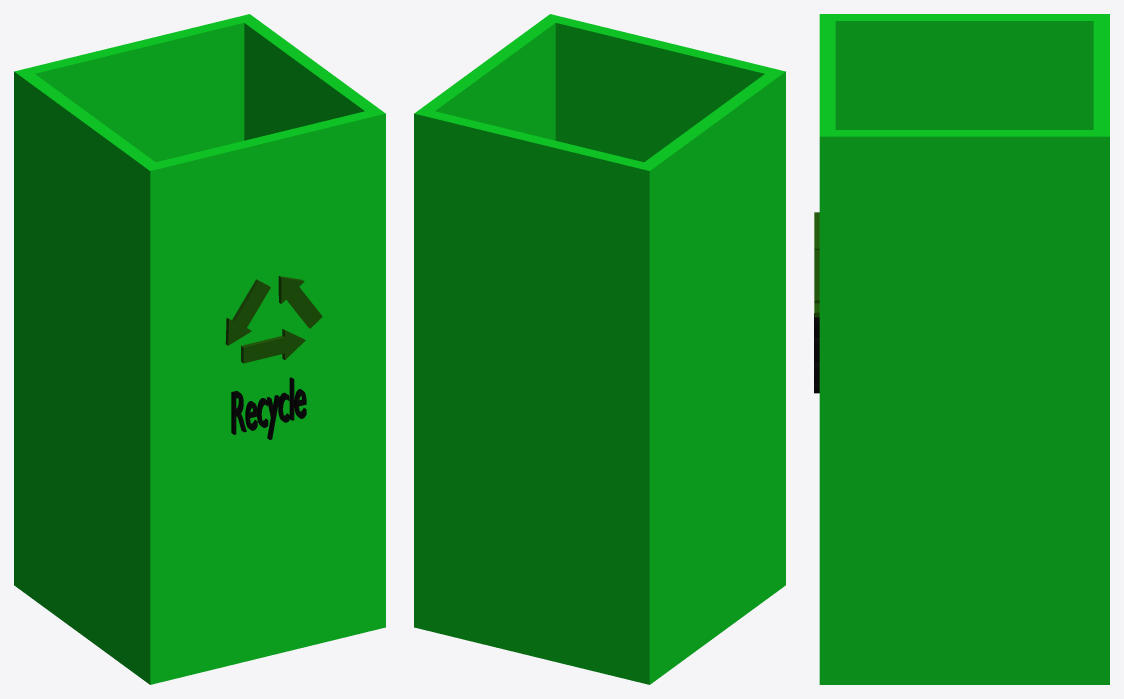
The model's file is bin.dae.
3 views of the same model, side by side, from view 1: azimuth 30°, elevation 25°; view 2: azimuth 150°, elevation 25°; view 3: azimuth 270°, elevation 25° (orthographic). The views are drawn at different scales.
Parts seen in each view (by area): view 1: Plane.005, Plane.001, Plane, Plane.006, Text.001; view 2: Plane.004, Plane.001, Plane; view 3: Plane.003, Plane, Plane.006, Text.001.
Boxes of the visible parts, left/top/right/bottom form: Plane.005: left=150, top=113, right=385, bottom=684; Plane.001: left=14, top=71, right=150, bottom=684; Plane: left=14, top=14, right=385, bottom=170; Plane.006: left=225, top=276, right=322, bottom=363; Text.001: left=231, top=377, right=306, bottom=439; Plane.004: left=414, top=113, right=649, bottom=684; Plane.001: left=649, top=71, right=785, bottom=684; Plane: left=414, top=14, right=785, bottom=170; Plane.003: left=819, top=136, right=1109, bottom=684; Plane: left=819, top=14, right=1109, bottom=136; Plane.006: left=814, top=212, right=819, bottom=317; Text.001: left=814, top=313, right=819, bottom=393.
Bounding box in the file's own units: 0.24 × 0.2446 × 0.5.
